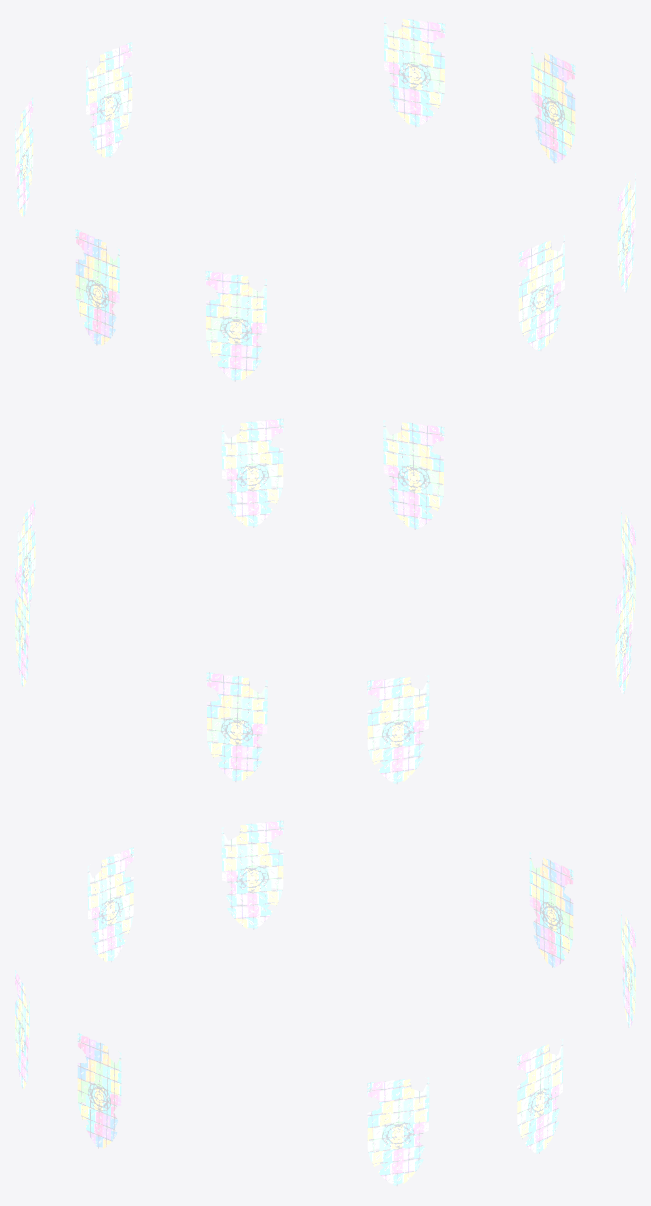
The model's file is 05_stained_glass.glb.
3 views of the same model, one above another, from view 1: azimuth 30°, elevation 25°; view 2: azimuth 150°, elevation 25°; view 3: azimuth 270°, elevation 25° (orthographic).
Visible parts, largest first — view 1: broken_stained_glass_eight_bays; view 2: broken_stained_glass_eight_bays; view 3: broken_stained_glass_eight_bays.
Part boxes in pixels (<box>): broken_stained_glass_eight_bays: <box>15,16,635,381</box>; broken_stained_glass_eight_bays: <box>15,418,635,784</box>; broken_stained_glass_eight_bays: <box>15,820,635,1186</box>.
Bounding box in the file's own units: 64.25 × 12.5 × 64.25.
Materials: 1 (1 with a texture image).
